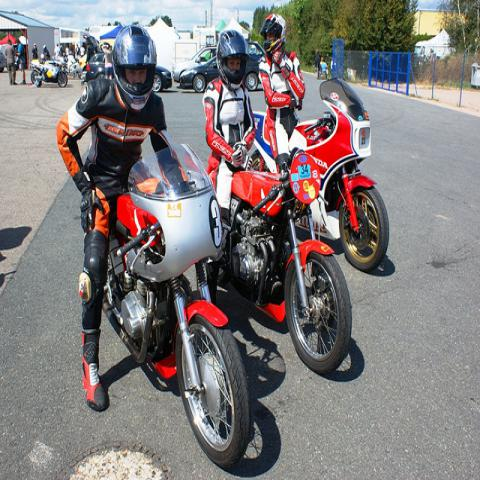car: (179, 42, 265, 93), (173, 48, 217, 82), (154, 66, 170, 92), (0, 44, 8, 73)
motorcycle: (101, 140, 250, 399), (222, 147, 352, 374), (284, 76, 388, 275), (30, 54, 68, 88)
